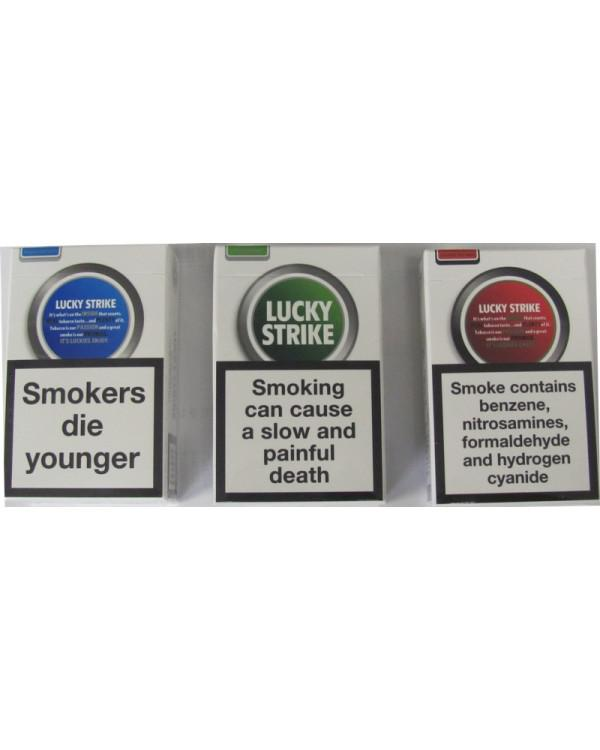lucky_strike_blue: (5, 250, 161, 496)
lucky_strike_red: (432, 250, 591, 498)
